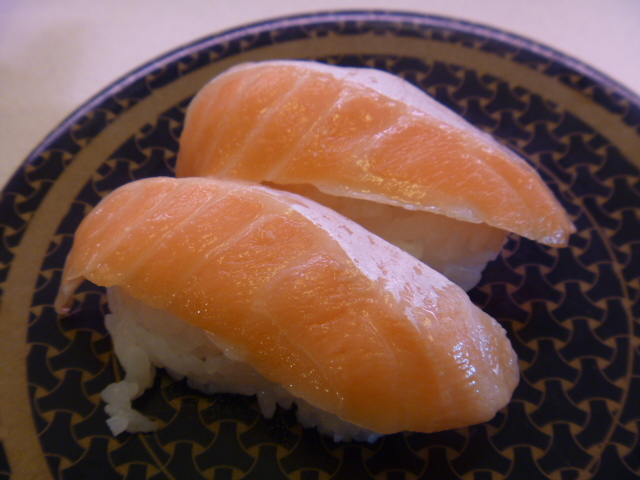salmon: (58, 179, 520, 437)
